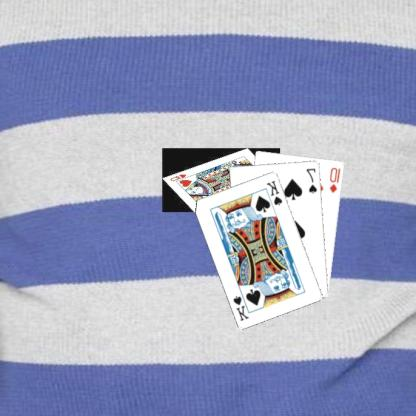10D: (329, 164, 344, 194)
7S: (306, 166, 320, 194)
KS: (233, 289, 254, 322), (266, 178, 286, 206)
